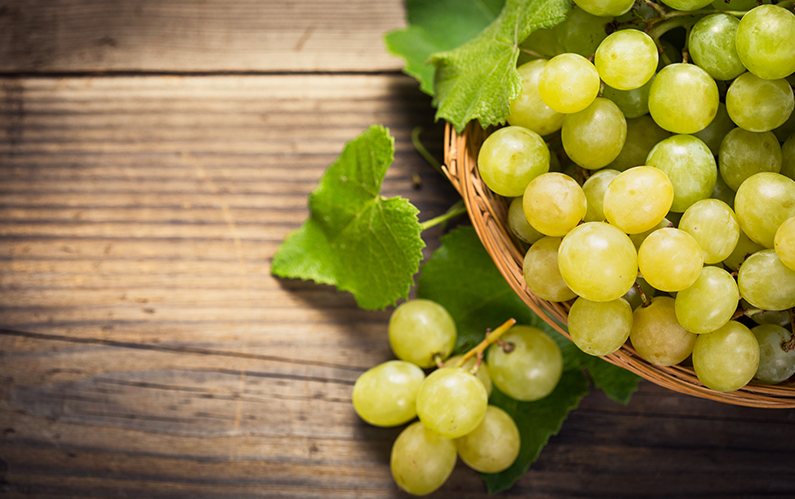Green grapes: (505, 52, 795, 354), (365, 309, 559, 499)
